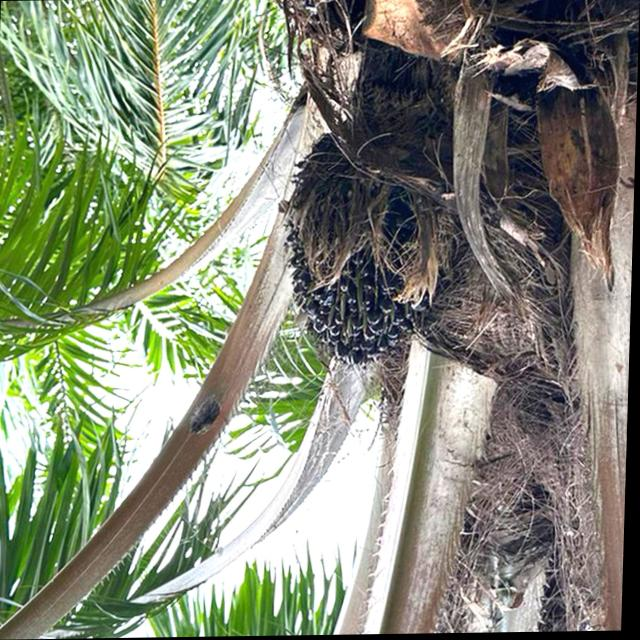unripe: (278, 121, 455, 381)
